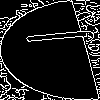I: (25, 25, 100, 46)
